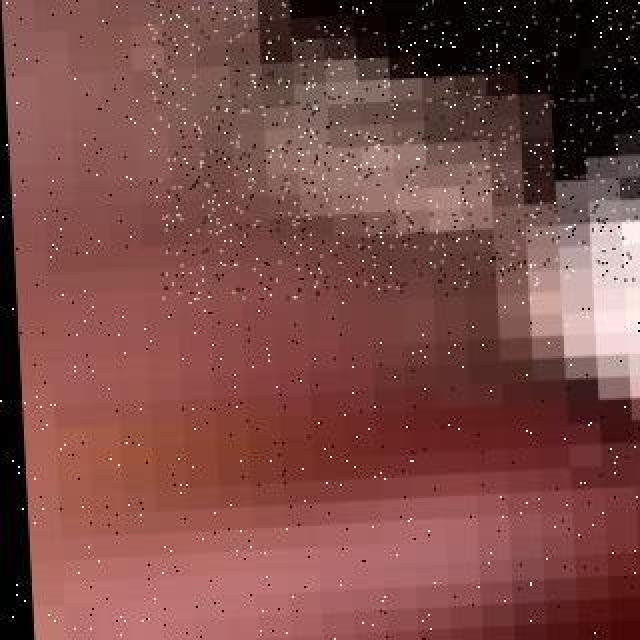cavities: (274, 0, 640, 294)
